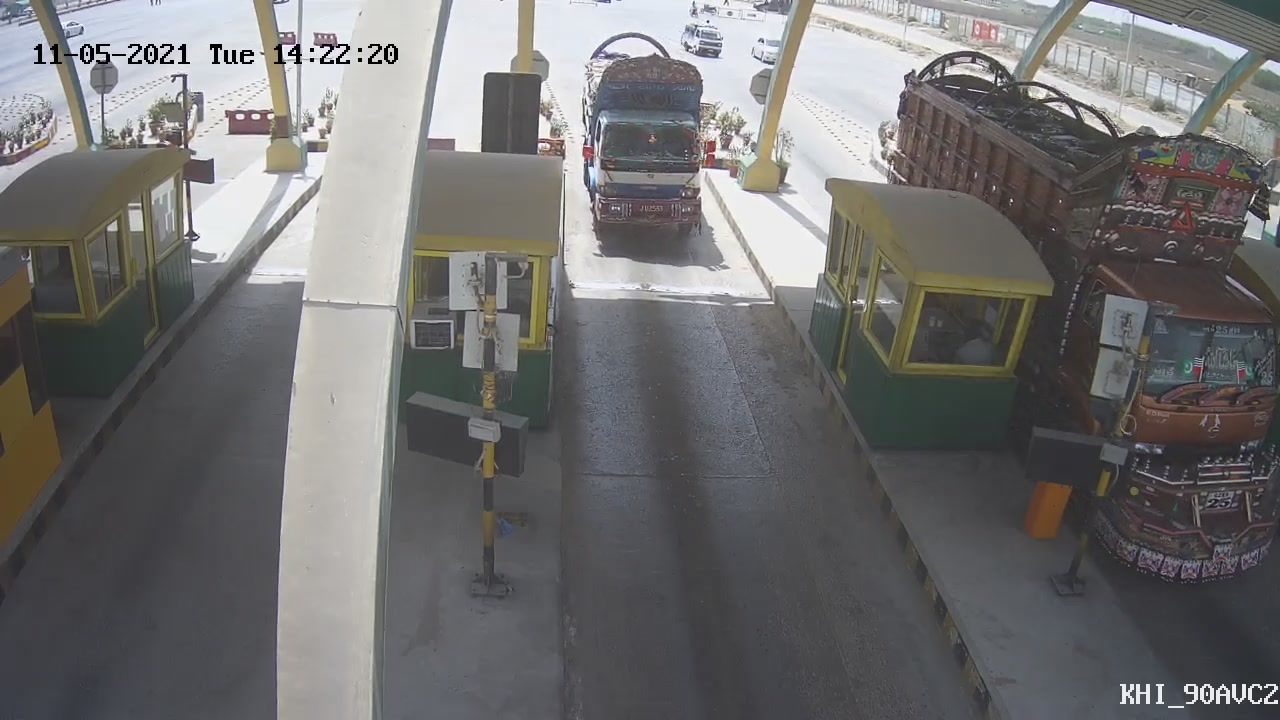F5: (584, 30, 723, 258)
